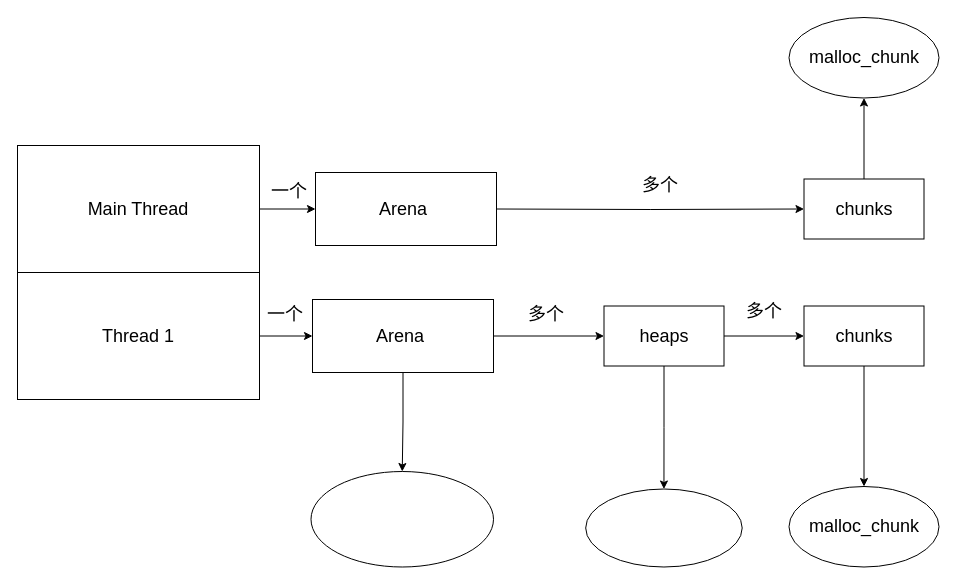
This 957x585 diagram has some shape labels left out. The box of each missing label's shape, as (x1, y1, x2, y2) in pixels:
heap_info: (585, 488, 742, 567)
malloc_state (Arena header): (310, 470, 494, 567)
